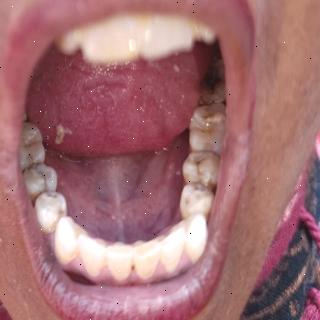cavities: (191, 60, 223, 100), (23, 160, 51, 194), (188, 173, 212, 198)
plaque: (80, 254, 114, 284), (160, 248, 188, 274), (137, 256, 163, 284), (41, 219, 63, 248), (58, 244, 80, 266)
